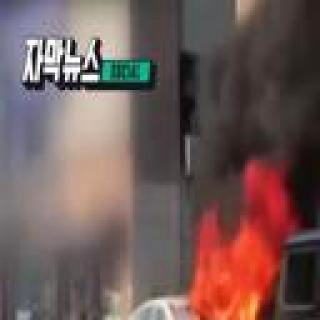fire: (199, 178, 283, 320)
